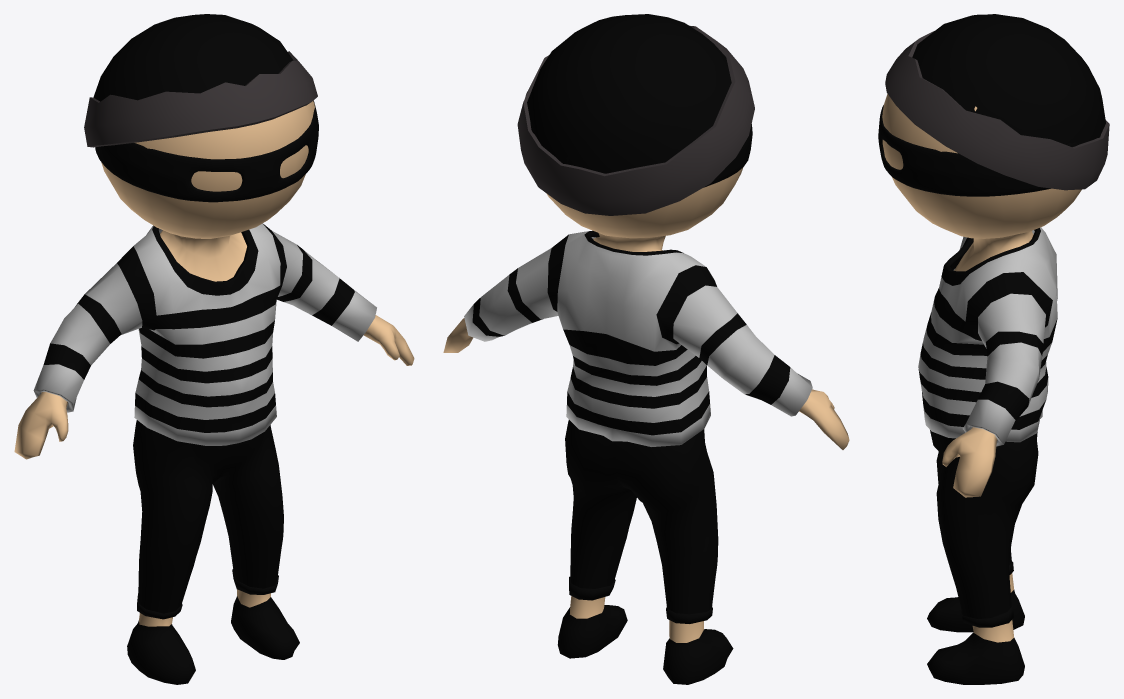
The model's file is hrsz.fbx.
3 views of the same model, side by side, from view 1: azimuth 30°, elevation 25°; view 2: azimuth 150°, elevation 25°; view 3: azimuth 270°, elevation 25° (orthographic).
Visible parts, largest first — view 1: Stickman_heads_sphere.055, Stickman_heads_sphere.053, Stickman_heads_sphere.057, Stickman_heads_sphere.054, Stickman_heads_sphere.056; view 2: Stickman_heads_sphere.055, Stickman_heads_sphere.057, Stickman_heads_sphere.054, Stickman_heads_sphere.053, Stickman_heads_sphere.056; view 3: Stickman_heads_sphere.057, Stickman_heads_sphere.055, Stickman_heads_sphere.053, Stickman_heads_sphere.054, Stickman_heads_sphere.056.
Boxes of the visible parts, left/top/right/bottom form: Stickman_heads_sphere.055: left=33, top=223, right=376, bottom=445; Stickman_heads_sphere.053: left=14, top=101, right=414, bottom=684; Stickman_heads_sphere.057: left=84, top=14, right=317, bottom=147; Stickman_heads_sphere.054: left=133, top=420, right=283, bottom=619; Stickman_heads_sphere.056: left=95, top=100, right=318, bottom=202; Stickman_heads_sphere.055: left=464, top=230, right=812, bottom=446; Stickman_heads_sphere.057: left=517, top=14, right=754, bottom=215; Stickman_heads_sphere.054: left=565, top=420, right=718, bottom=623; Stickman_heads_sphere.053: left=443, top=167, right=849, bottom=684; Stickman_heads_sphere.056: left=530, top=122, right=752, bottom=187; Stickman_heads_sphere.057: left=885, top=14, right=1109, bottom=190; Stickman_heads_sphere.055: left=918, top=227, right=1057, bottom=446; Stickman_heads_sphere.053: left=882, top=94, right=1081, bottom=684; Stickman_heads_sphere.054: left=930, top=430, right=1038, bottom=627; Stickman_heads_sphere.056: left=878, top=105, right=1100, bottom=196.
Bounding box in the file's own units: 123 × 186 × 62.63.
